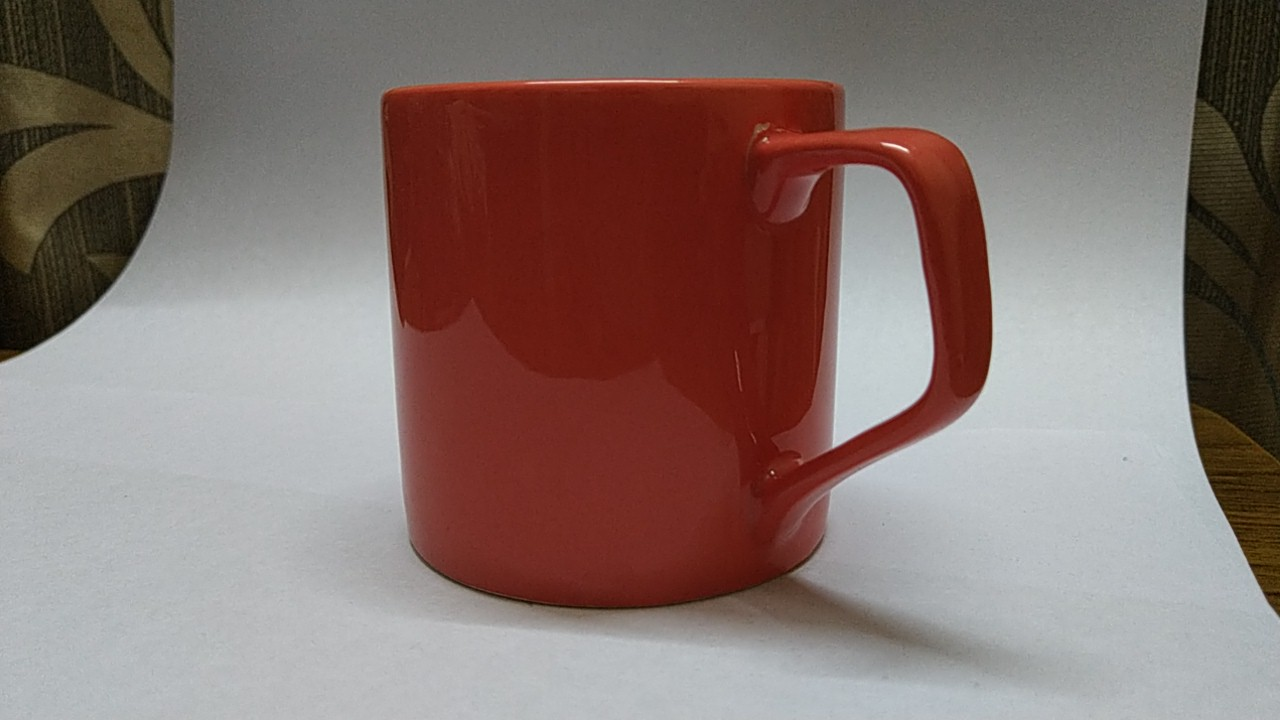cup: (355, 61, 1017, 622)
